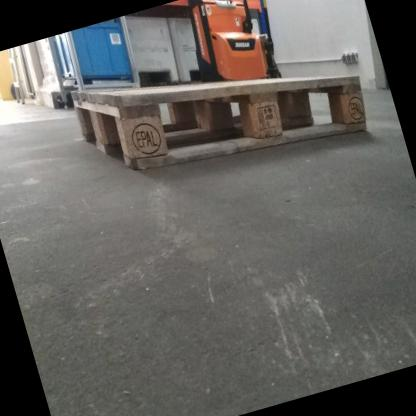BoxFace: (67, 71, 370, 175)
